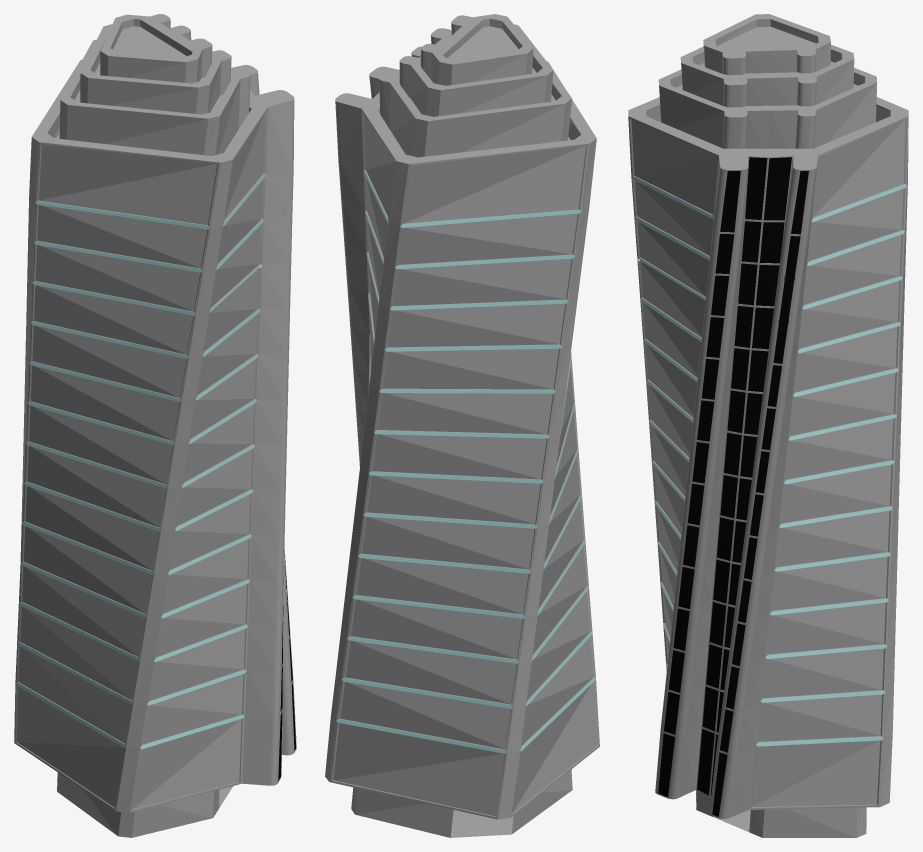
File: Hotel1.fbx
3 renders of one model, left to right at view 1: azimuth 30°, elevation 25°; view 2: azimuth 150°, elevation 25°; view 3: azimuth 270°, elevation 25°, orthographic.
Visible parts, largest first — view 1: polySurface2; view 2: polySurface2; view 3: polySurface2.
Part boxes in pixels (<box>): polySurface2: <box>14,14,296,837</box>; polySurface2: <box>325,14,599,837</box>; polySurface2: <box>628,14,908,837</box>.
Bounding box in the file's own units: 13.07 × 39.65 × 13.28.
